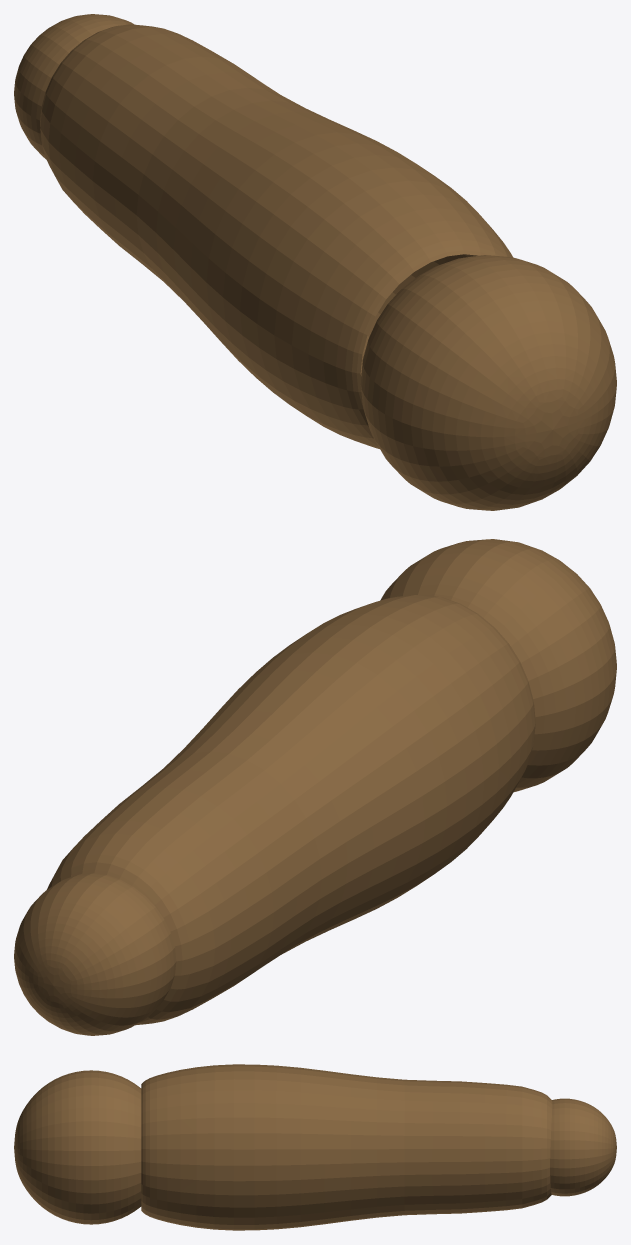
The model's file is LKsegment_joint_visu.dae.
3 views of the same model, one above another, from view 1: azimuth 30°, elevation 25°; view 2: azimuth 150°, elevation 25°; view 3: azimuth 270°, elevation 25° (orthographic). The views are drawn at different scales.
Parts seen in each view (by area): view 1: node; view 2: node; view 3: node.
Part boxes in pixels (x1,y1,x2,y2): node: (14, 14, 616, 510); node: (14, 539, 616, 1035); node: (14, 1064, 616, 1230).
Size of the model in its own units: 0.082 by 0.087 by 0.312.
